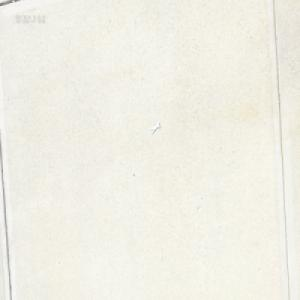Wrench: (150, 122, 161, 134)
